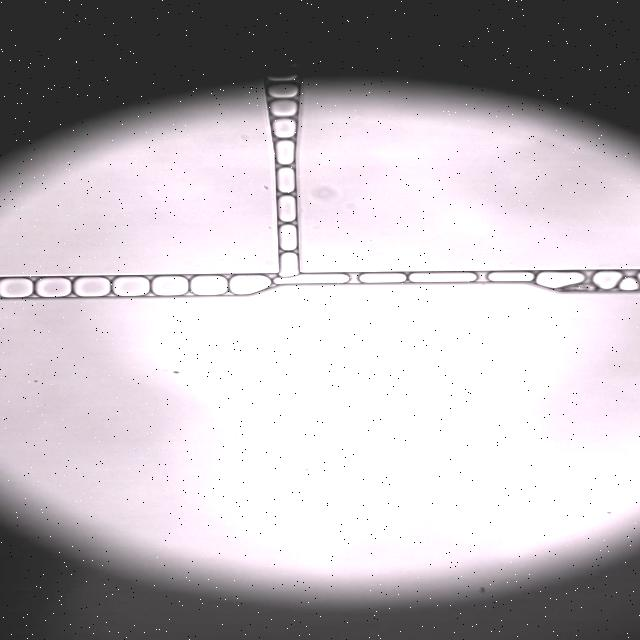L: (593, 271, 621, 289), (269, 100, 297, 117), (359, 273, 405, 283), (272, 119, 296, 138), (280, 225, 297, 251), (278, 196, 295, 222), (268, 84, 298, 98), (280, 253, 298, 276), (278, 168, 295, 192), (488, 272, 533, 281), (277, 140, 293, 165), (267, 73, 297, 82), (638, 273, 640, 282)
S: (536, 272, 584, 289), (230, 275, 270, 294), (36, 277, 72, 297), (74, 277, 110, 297), (190, 276, 227, 295), (113, 277, 149, 296), (0, 278, 33, 298), (152, 277, 187, 295), (409, 273, 475, 282), (277, 275, 348, 283), (620, 277, 638, 290)
